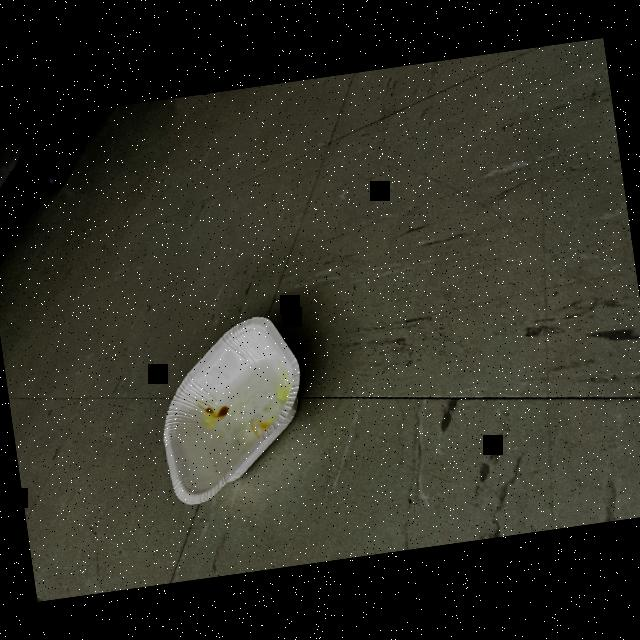cardboard_bowl: (140, 295, 328, 519)
